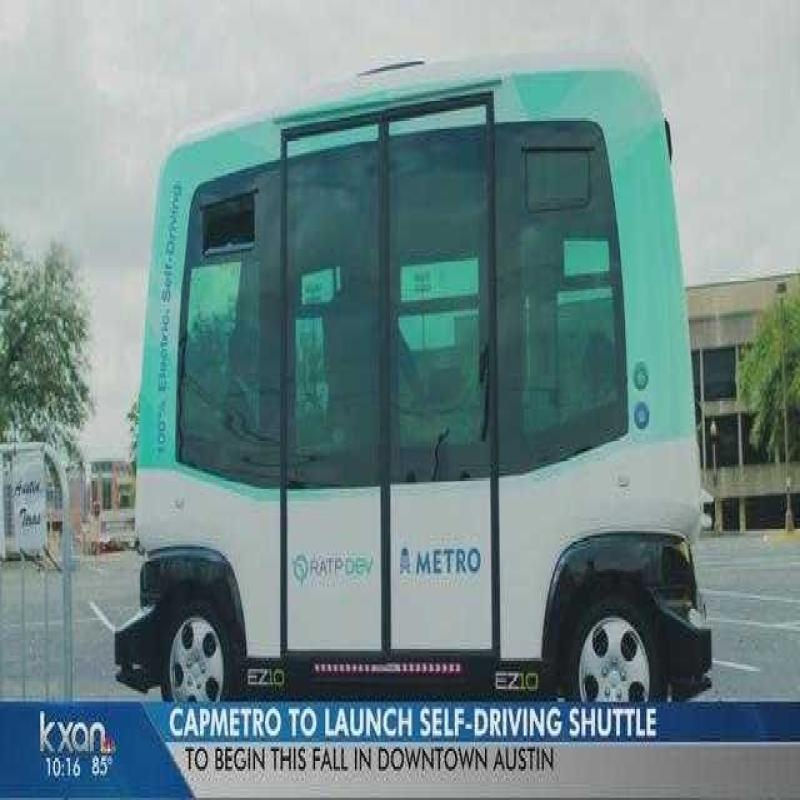bus: (137, 86, 706, 800)
